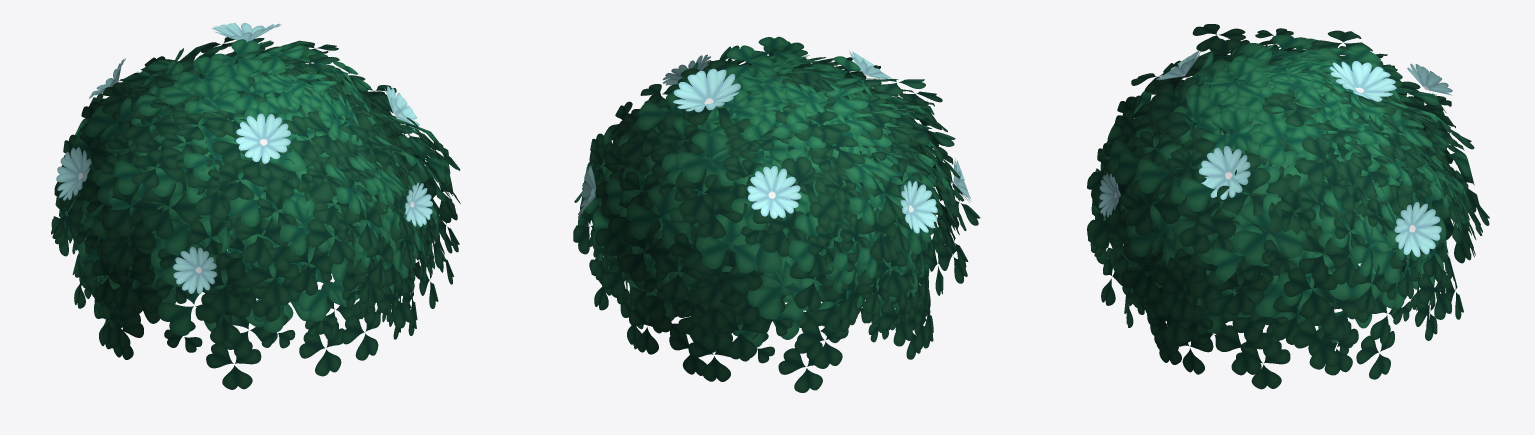
Rendered from Bush_04_02.fbx.
3 views of the same model, side by side, from view 1: azimuth 30°, elevation 25°; view 2: azimuth 150°, elevation 25°; view 3: azimuth 270°, elevation 25° (orthographic).
Visible parts, largest first — view 1: Plane.002, Plane.005; view 2: Plane.002, Plane.005; view 3: Plane.002, Plane.005.
Boxes of the visible parts, x1=… form: Plane.002: x1=51, y1=37, x2=460, y2=389; Plane.005: x1=56, y1=23, x2=432, y2=294; Plane.002: x1=573, y1=36, x2=980, y2=392; Plane.005: x1=578, y1=51, x2=971, y2=233; Plane.002: x1=1087, y1=24, x2=1489, y2=389; Plane.005: x1=1098, y1=50, x2=1452, y2=257.
Bounding box in the file's own units: 278 × 204 × 274.
2 materials, 2 textured.
